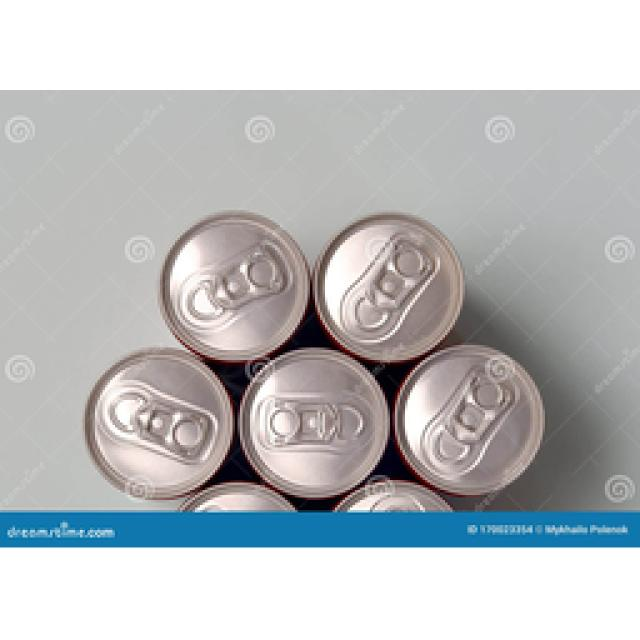aluminum_soda_cans: (90, 350, 233, 488), (165, 218, 313, 345), (392, 358, 538, 477), (325, 226, 467, 342), (253, 353, 382, 477)
